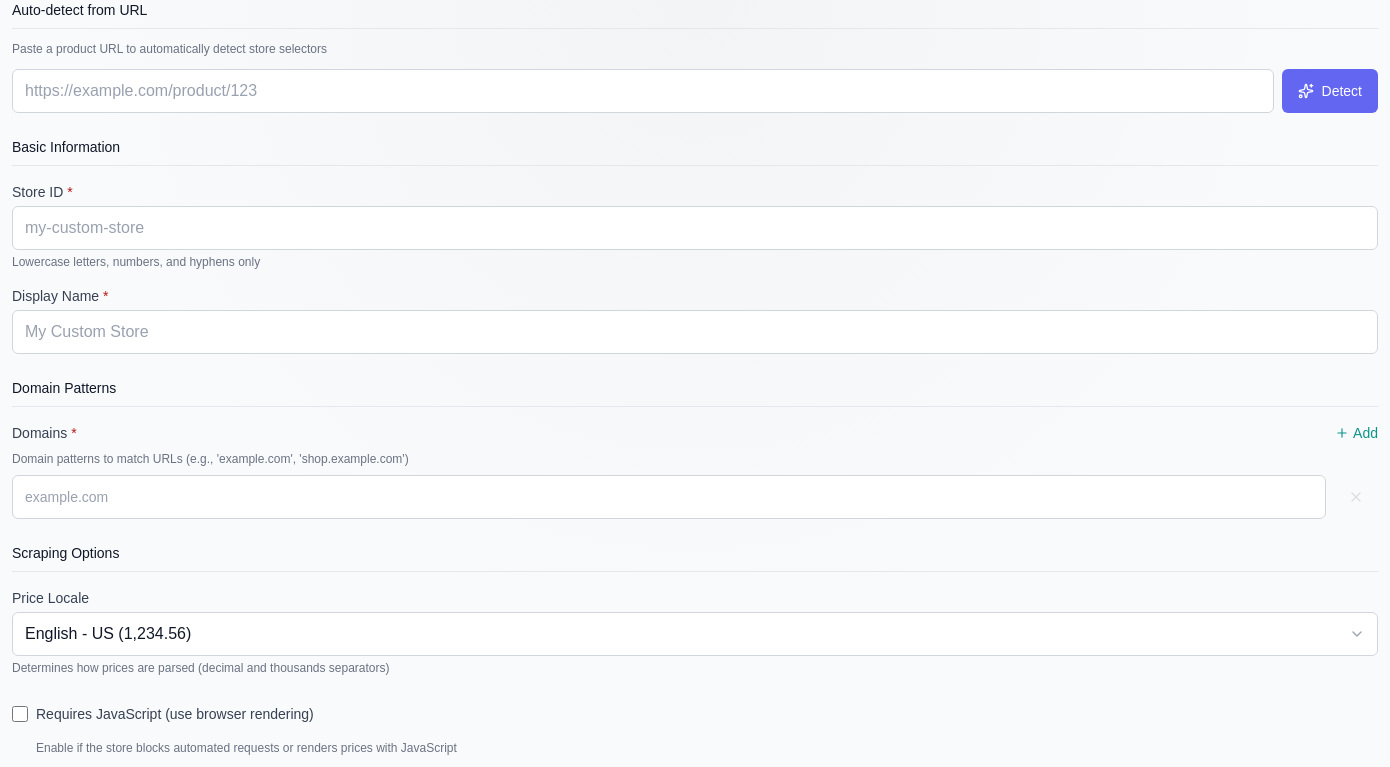
Test: StoreForm › Store ID validation › should show error for reserved Store ID
This screenshot has width=1390, height=767.
In the field labelled "Store ID *": (695, 228) [12, 206, 1378, 250], type "amazon"
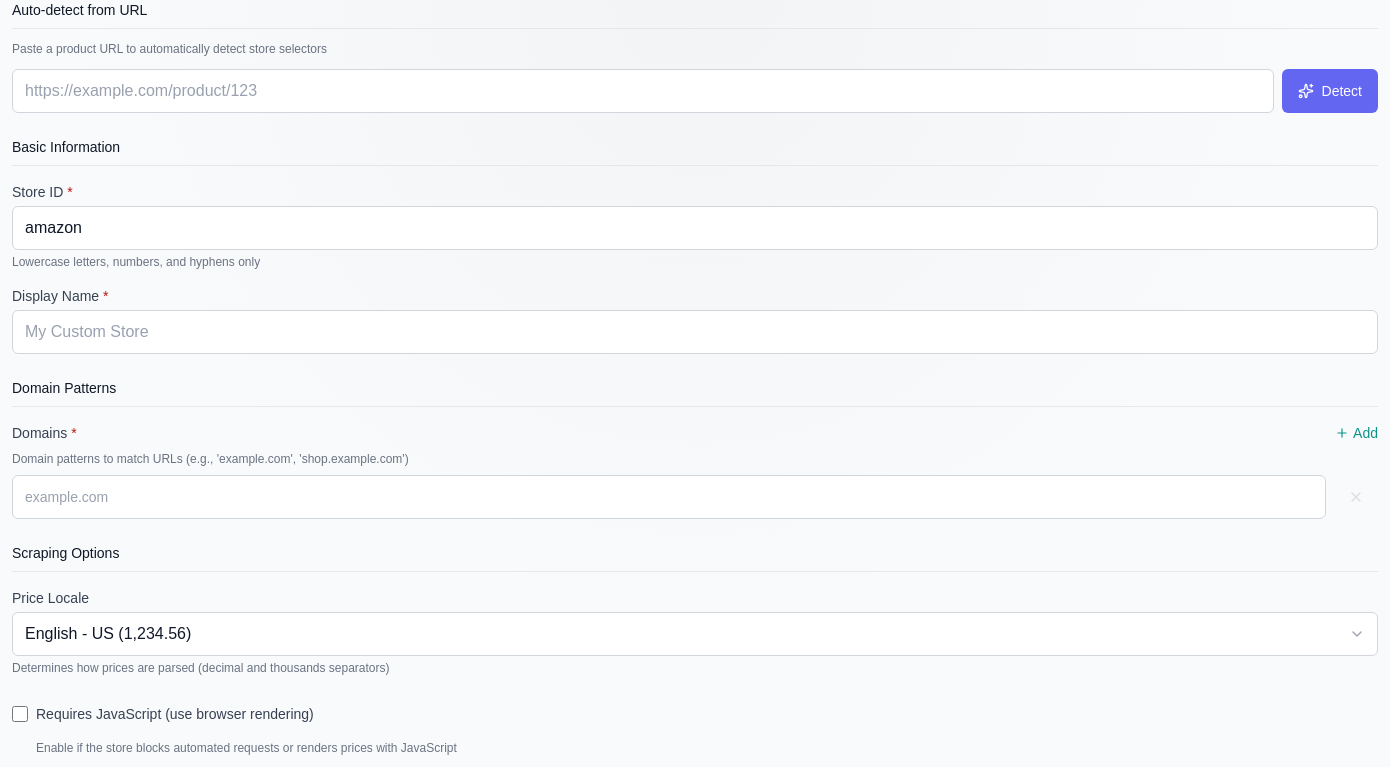
In the field labelled "Display Name *": (695, 332) [12, 310, 1378, 354], type "My Store"
(page scrolled)
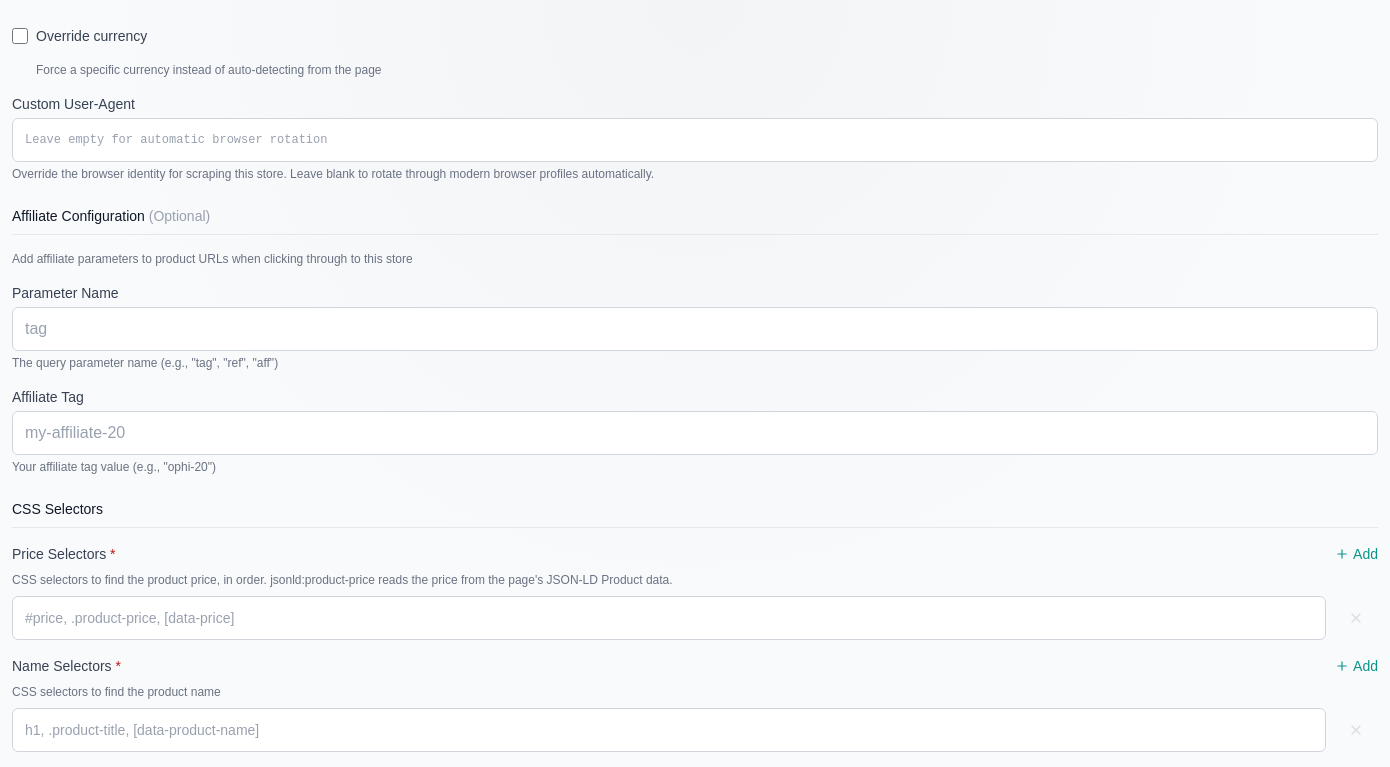
Submit the form named "Create Store"
(page scrolled)
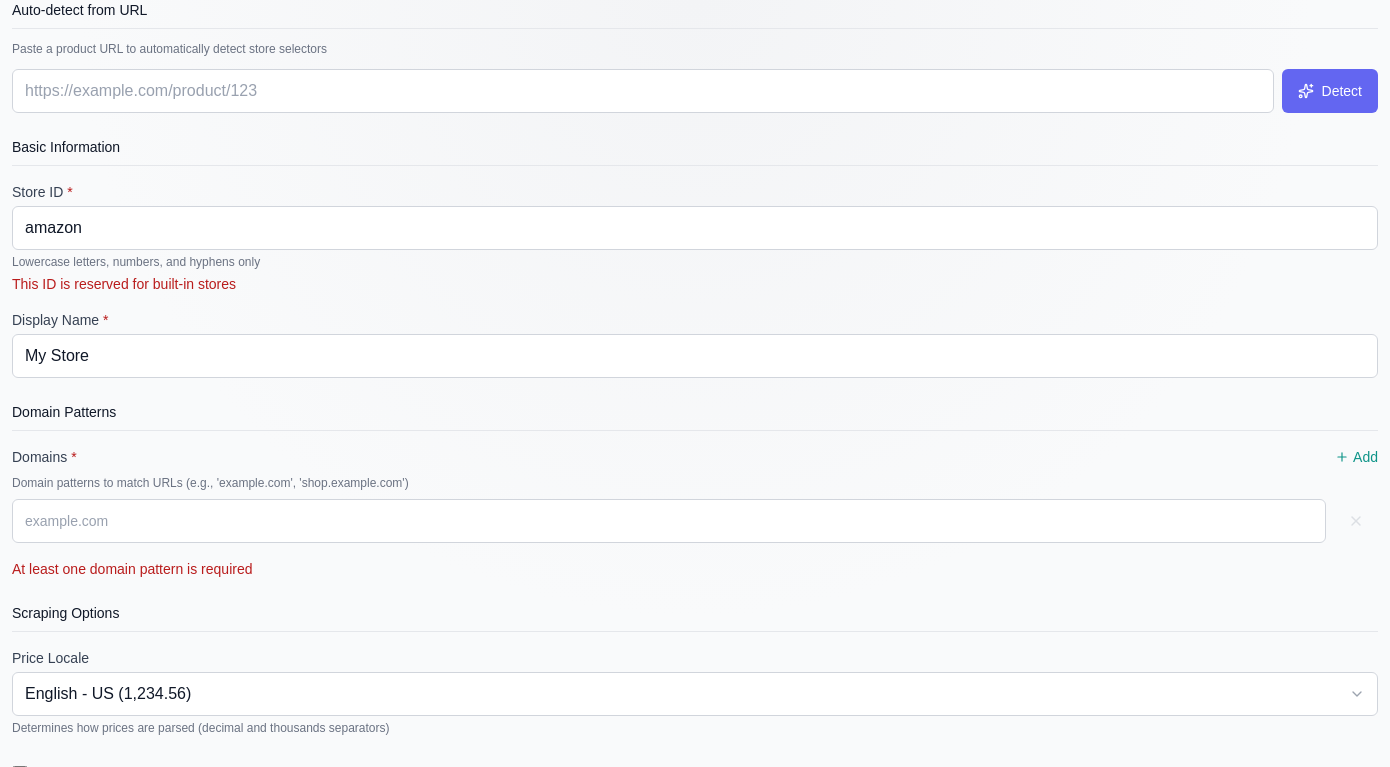
Expected: the text "This ID is reserved for built-in stores" is shown, [12, 276, 236, 292]
